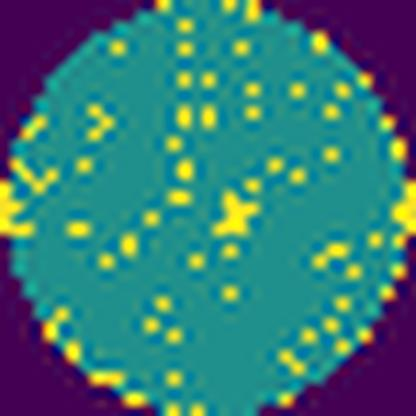Loc: (208, 186, 260, 238)
